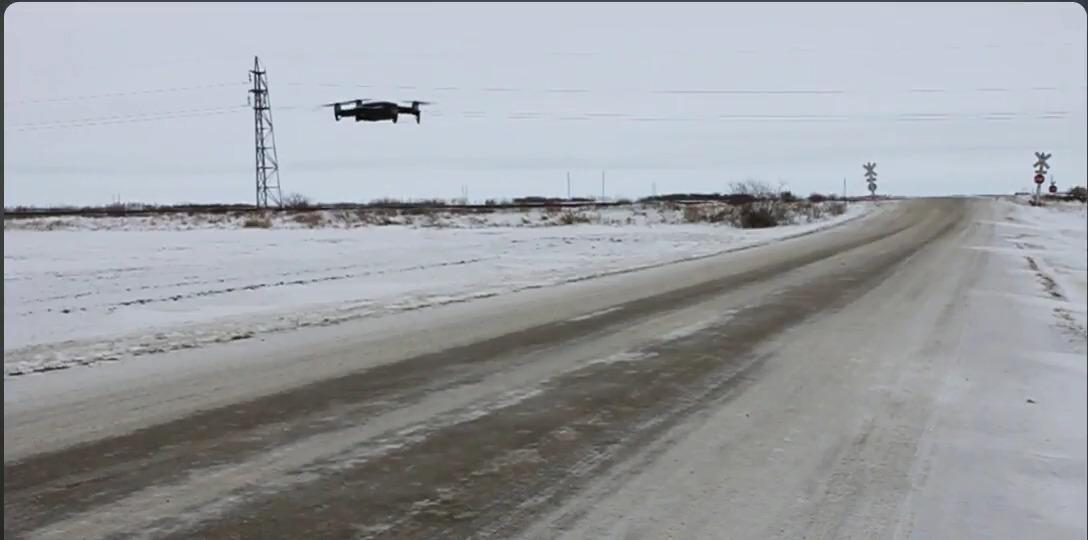dr: (322, 94, 437, 124)
